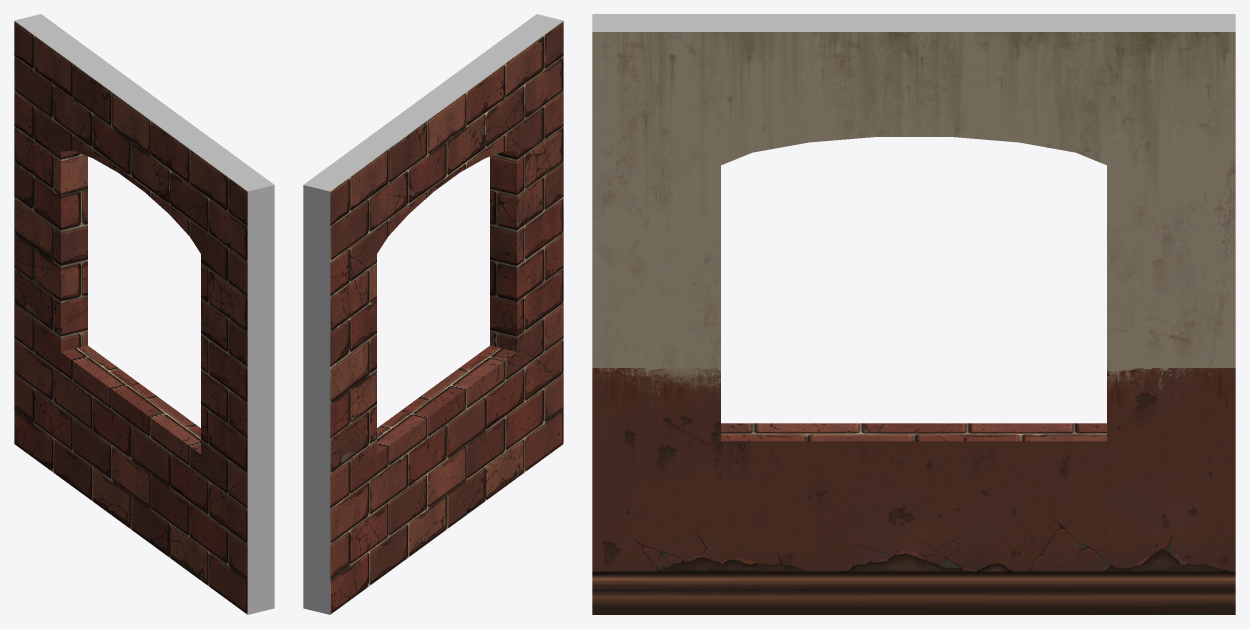
File: wall01_window2m_C.fbx
3 renders of one model, left to right at view 1: azimuth 30°, elevation 25°; view 2: azimuth 150°, elevation 25°; view 3: azimuth 270°, elevation 25°, orthographic. The views are drawn at different scales.
Parts seen in each view (by area): view 1: wall01_window2m_C; view 2: wall01_window2m_C; view 3: wall01_window2m_C.
Boxes of the visible parts, box(x1,y1,x2,y2) form: wall01_window2m_C: box(14, 14, 274, 614); wall01_window2m_C: box(303, 14, 563, 614); wall01_window2m_C: box(592, 14, 1235, 614).
Bounding box in the file's own units: 20 × 300 × 300.
